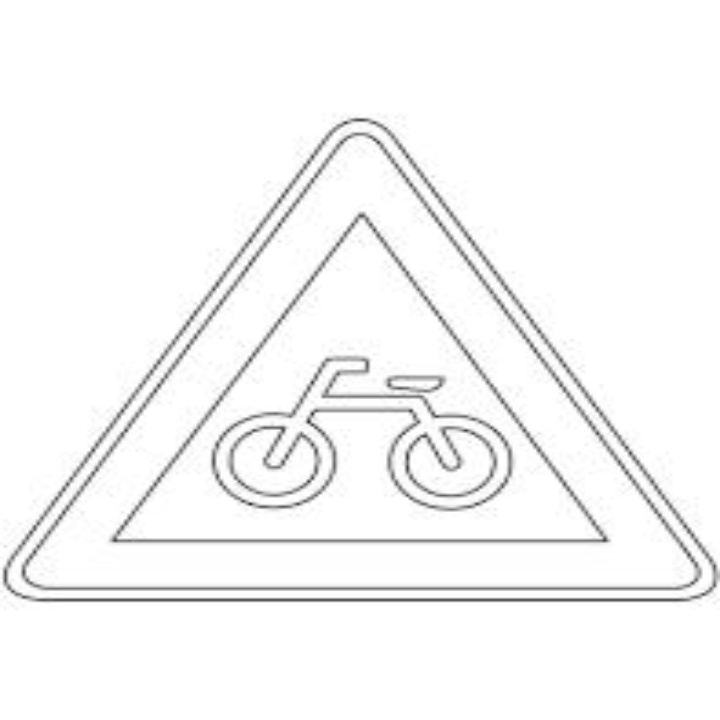bicycle: (200, 319, 508, 545)
